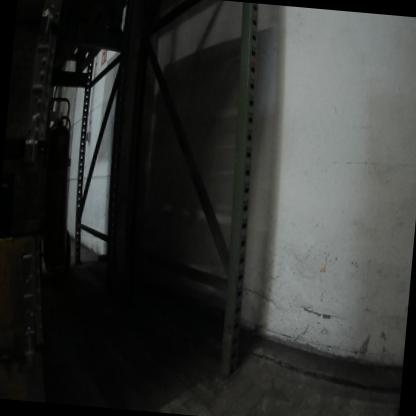pallet: (27, 0, 142, 94)
